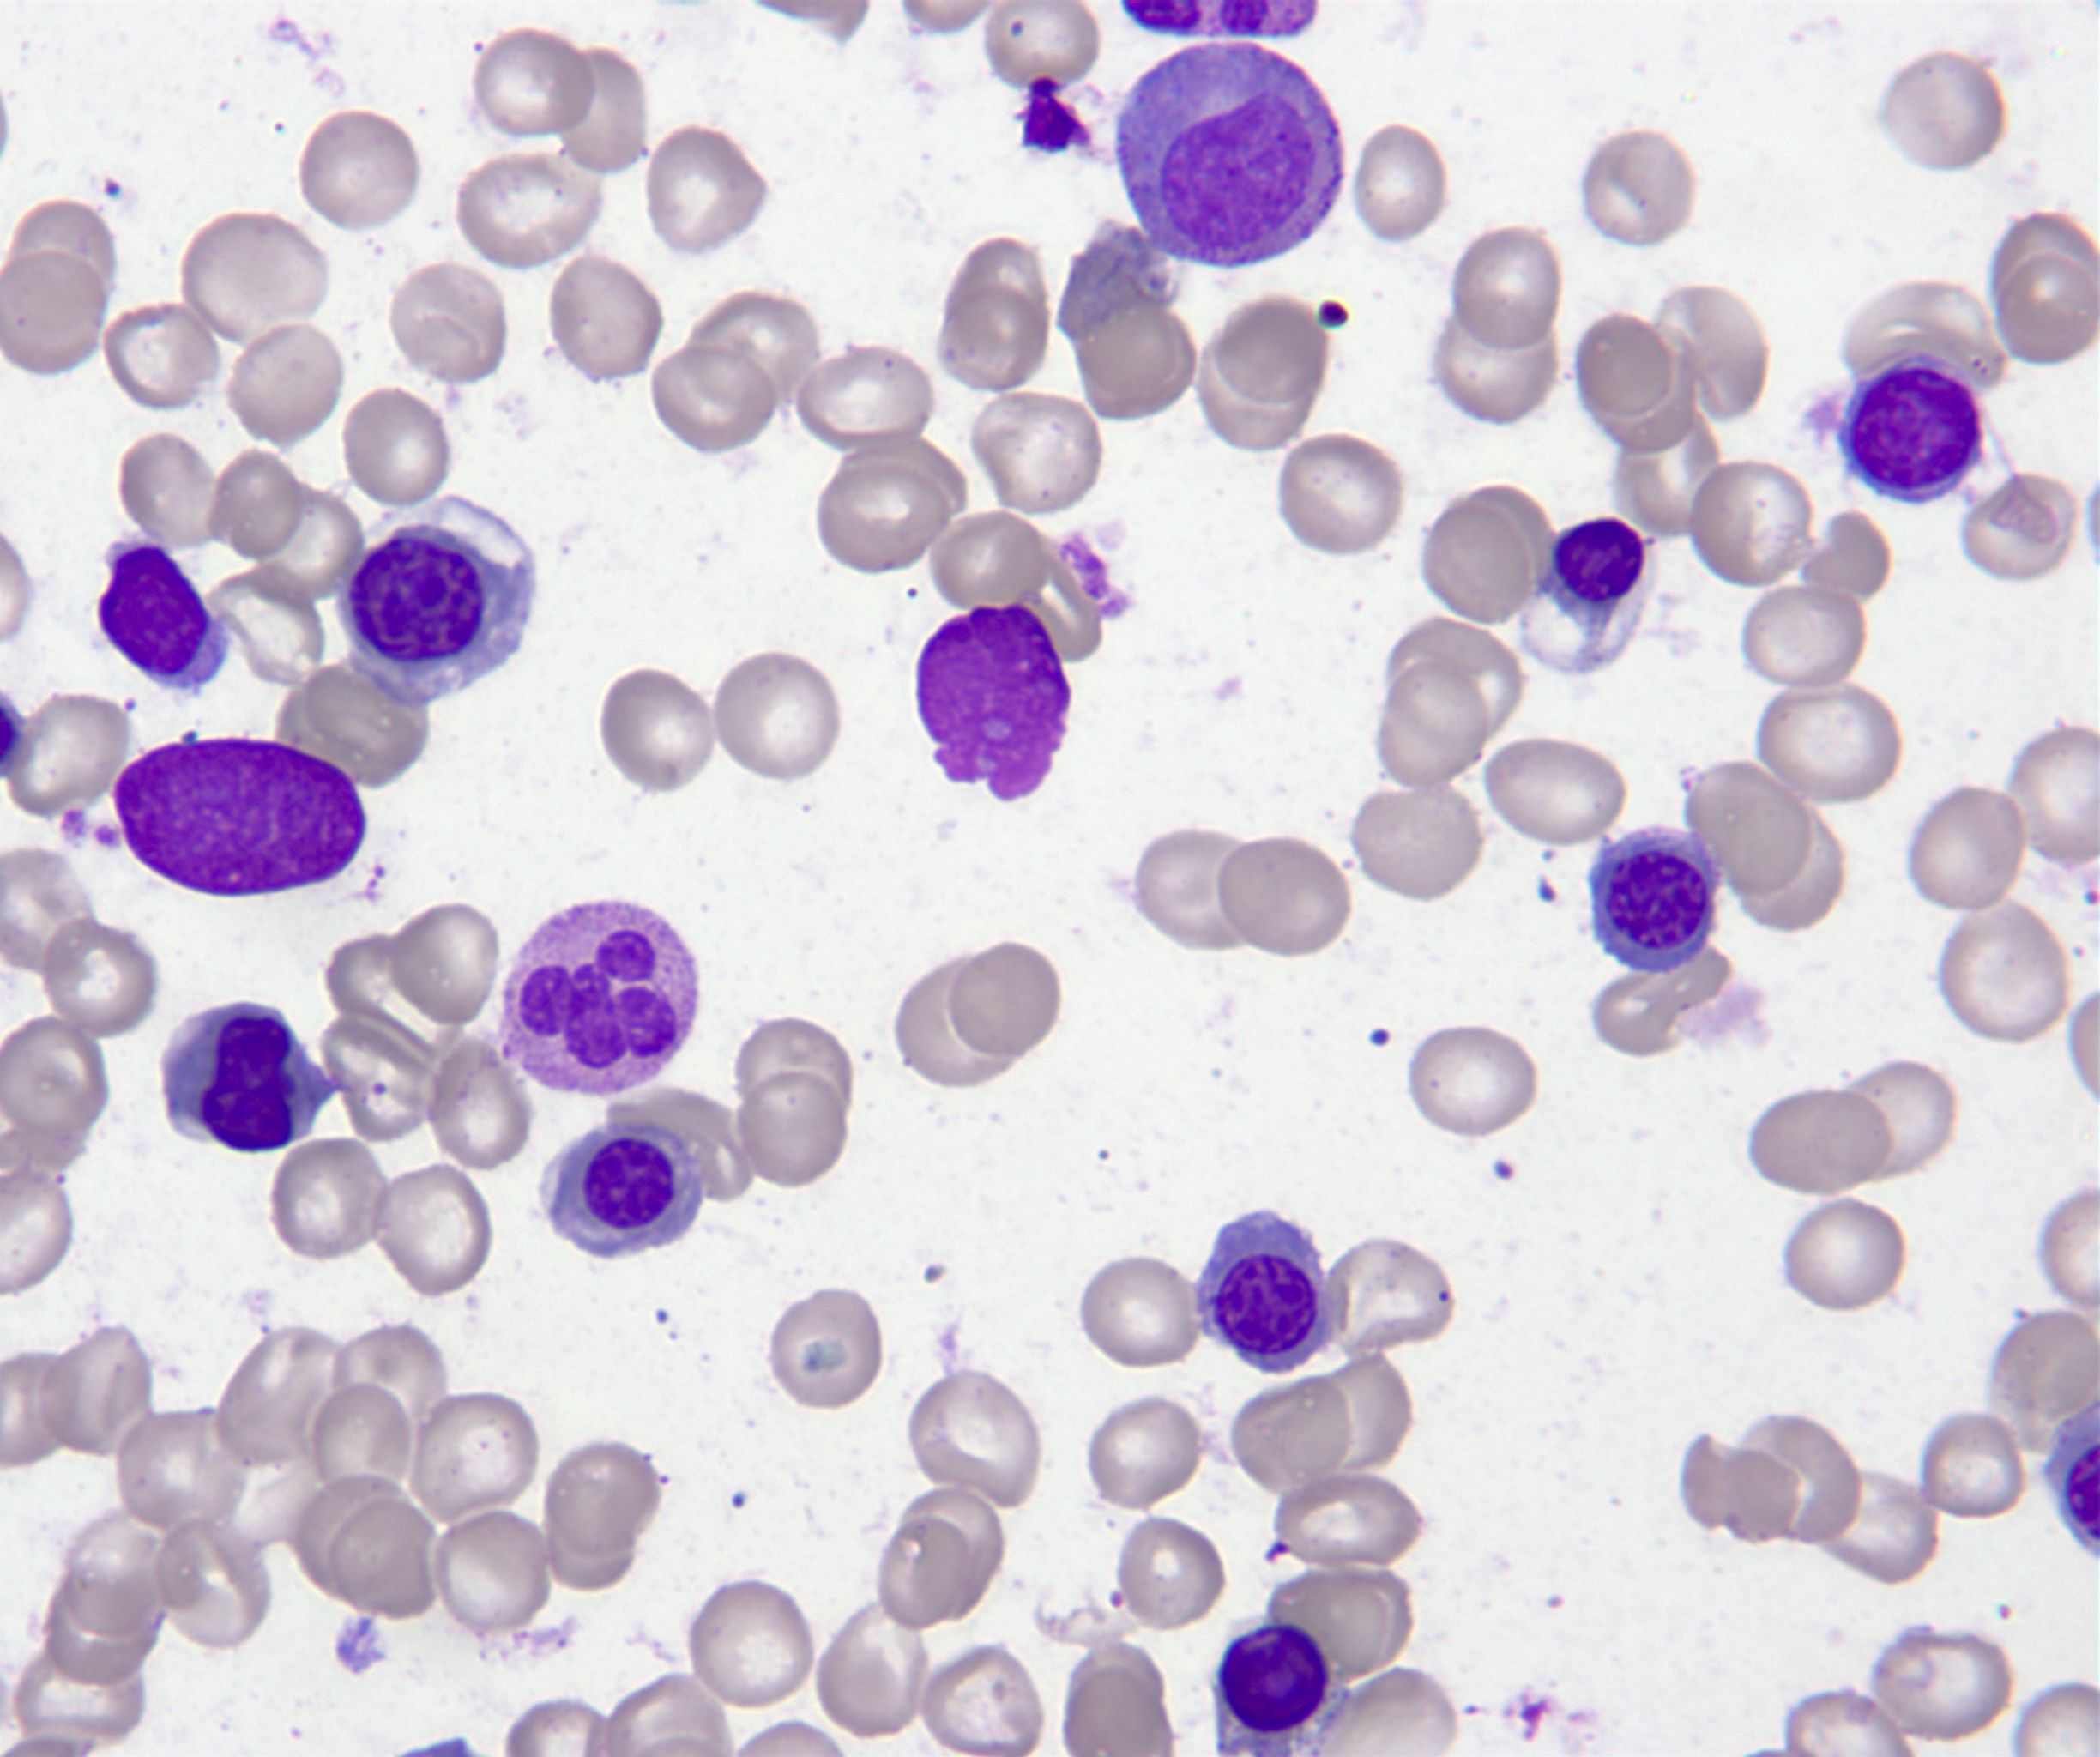24: (335, 497, 534, 707), (162, 1002, 338, 1153), (1197, 1209, 1331, 1375), (539, 1124, 701, 1260), (1521, 516, 1647, 673), (1589, 827, 1720, 972), (1212, 1626, 1348, 1757)
32: (1837, 351, 1983, 508), (98, 539, 227, 687)
6: (495, 902, 698, 1097)
E1: (1120, 44, 1341, 269)
x: (112, 738, 366, 897), (917, 604, 1071, 801)
